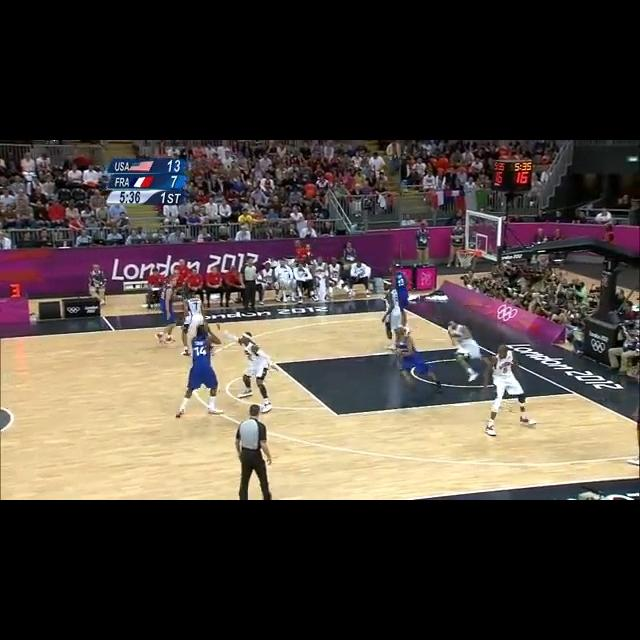hoop: (458, 250, 475, 266)
person: (177, 304, 223, 419), (234, 403, 277, 500), (487, 344, 528, 418), (241, 333, 274, 406)
